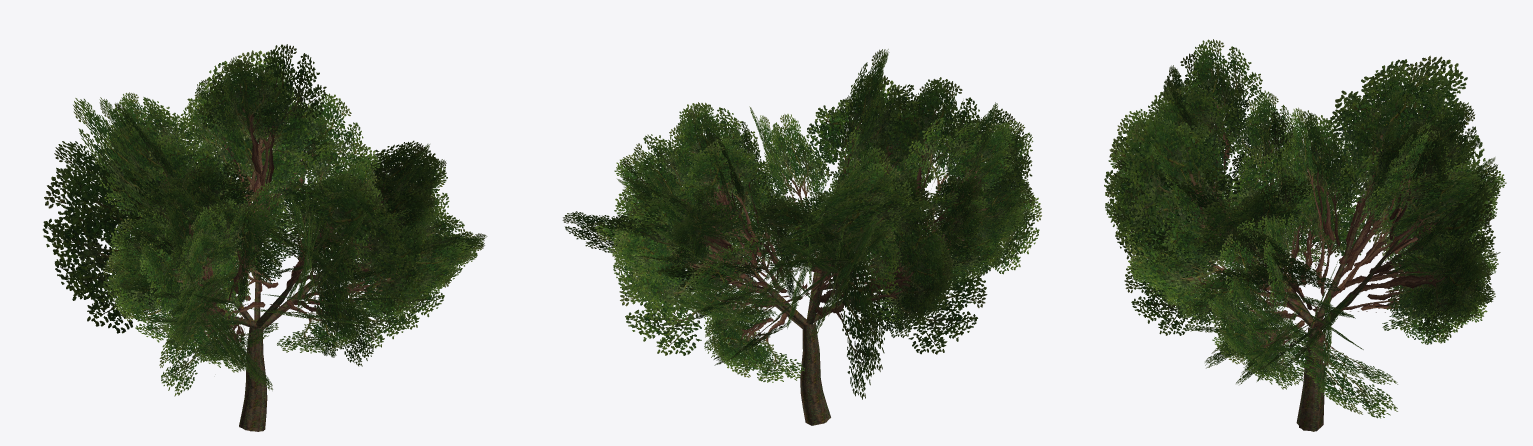
Rendered from far.glb.
3 renders of one model, left to right at view 1: azimuth 30°, elevation 25°; view 2: azimuth 150°, elevation 25°; view 3: azimuth 270°, elevation 25°, orthographic. The views are drawn at different scales.
Parts seen in each view (by area): view 1: lod1, lod2; view 2: lod1, lod2; view 3: lod1, lod2.
Part boxes in pixels (x1,y1,x2,y2): lod1: (92,56,487,431); lod2: (42,44,449,431); lod1: (562,71,1041,425); lod2: (614,49,1035,422); lod1: (1105,39,1506,431); lod2: (1104,55,1498,431).
Size of the model in its own units: 76.22 by 66.41 by 74.97.
Materials: 2 (2 with a texture image).
